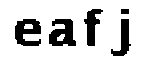a: (45, 17, 78, 48)
e: (13, 17, 43, 49)
f: (82, 4, 107, 49)
j: (108, 5, 137, 60)
